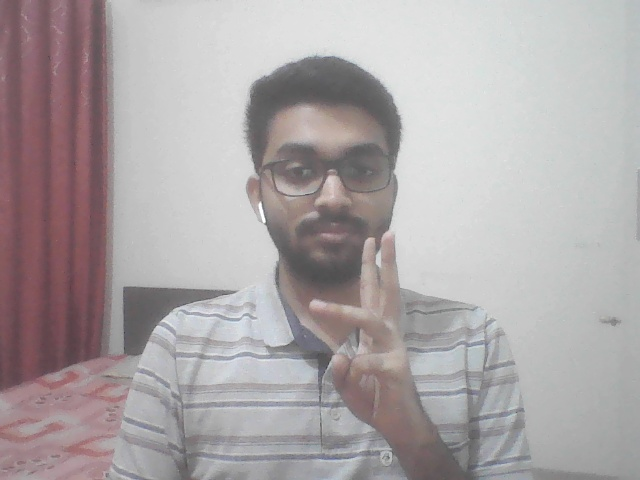water: (298, 218, 432, 441)
